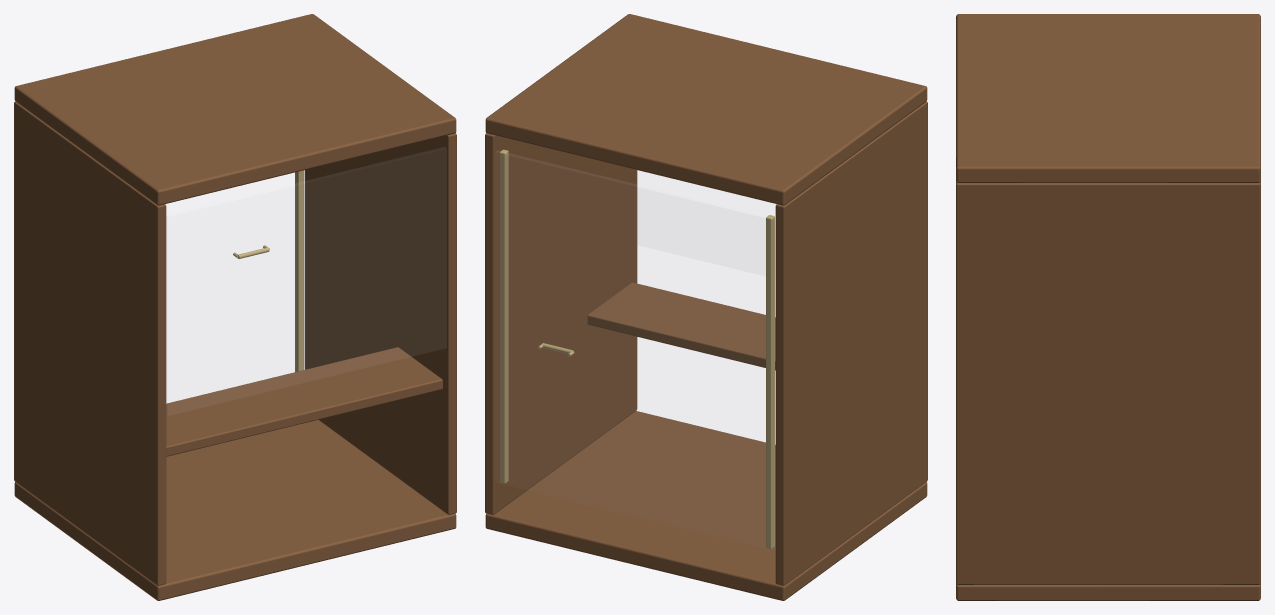
The model's file is city-courthouse-and-records-office-city-courthouse-and-43a5c647__30983.glb.
3 views of the same model, side by side, from view 1: azimuth 30°, elevation 25°; view 2: azimuth 150°, elevation 25°; view 3: azimuth 270°, elevation 25° (orthographic). The views are drawn at different scales.
Visible parts, largest first — view 1: city-courthouse-and-records-office-interpreter-booth; view 2: city-courthouse-and-records-office-interpreter-booth; view 3: city-courthouse-and-records-office-interpreter-booth.
Boxes of the visible parts, box(x1,y1,x2,y2) form: city-courthouse-and-records-office-interpreter-booth: box(14, 14, 456, 600); city-courthouse-and-records-office-interpreter-booth: box(485, 14, 927, 600); city-courthouse-and-records-office-interpreter-booth: box(956, 14, 1260, 600).
Bounding box in the file's own units: 1.8 × 2.36 × 1.5.
